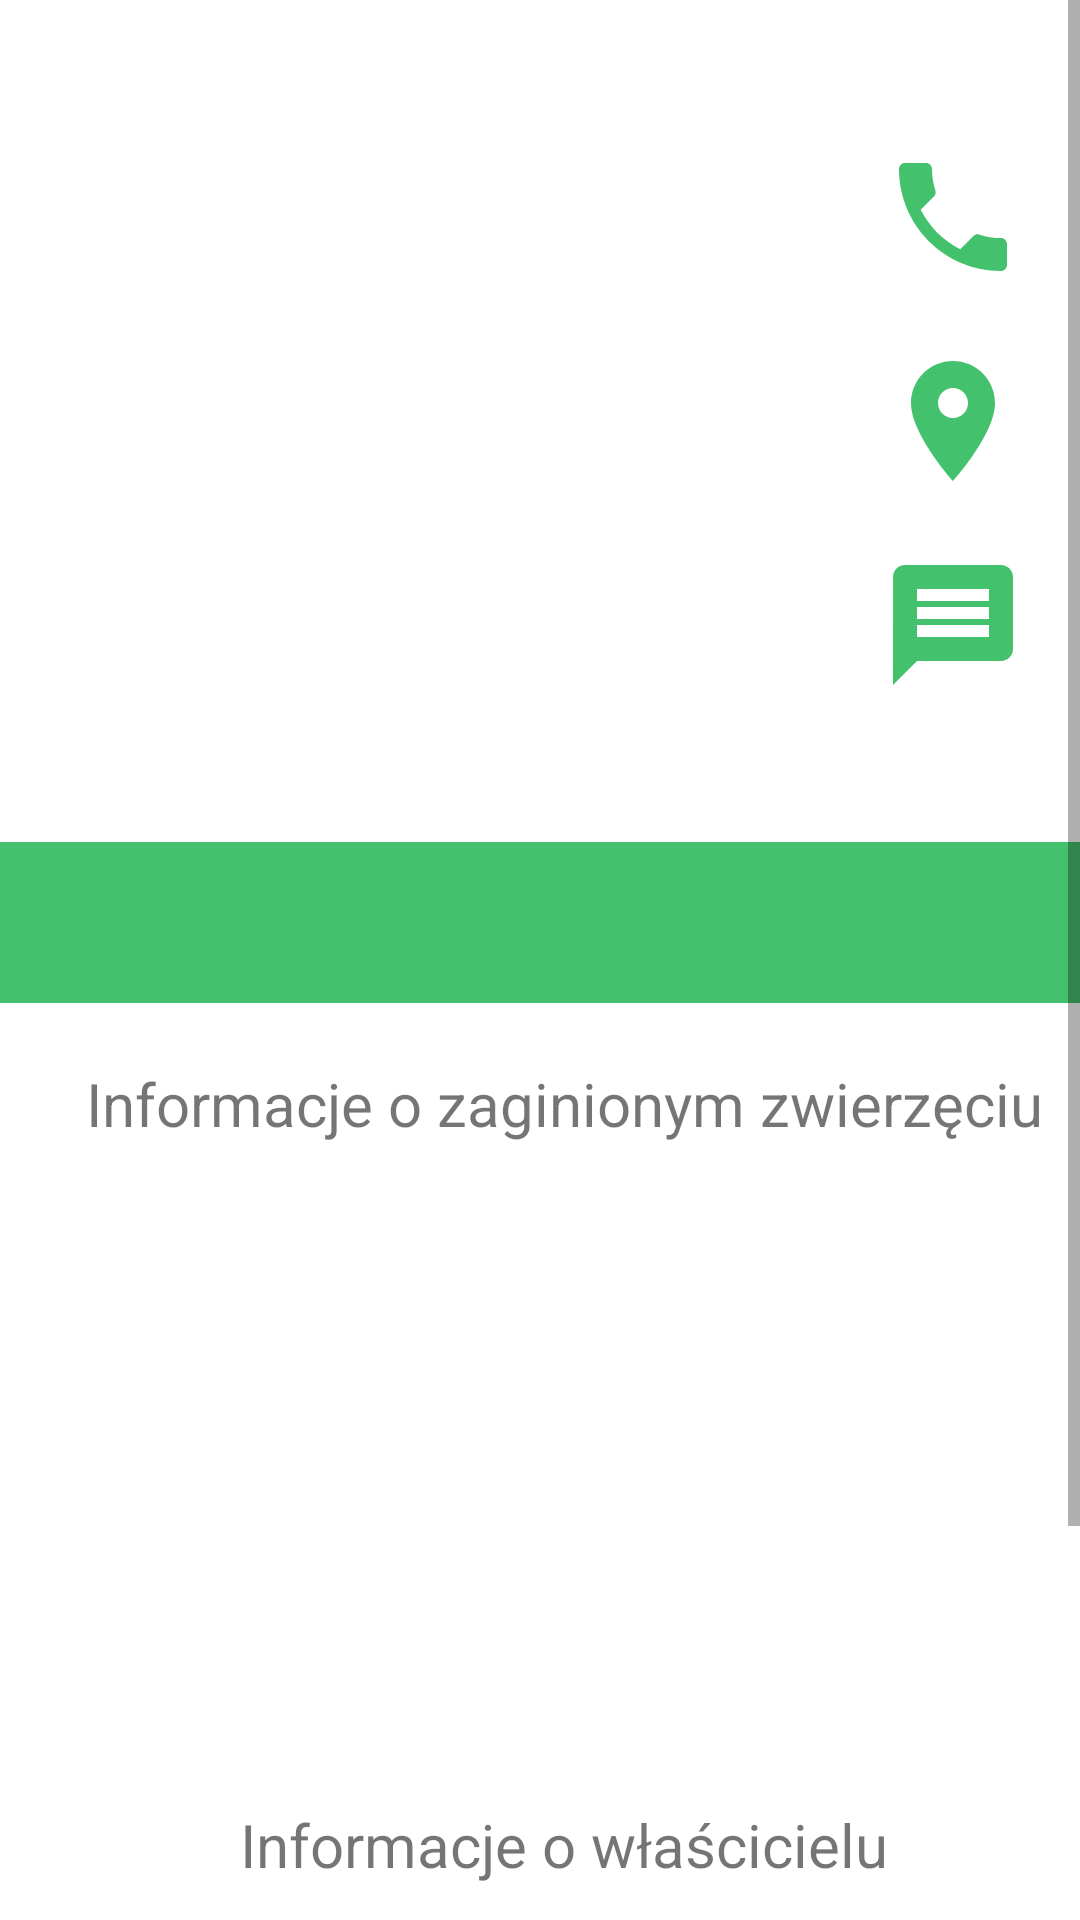

Icons on this 1080 x 1920 Android screen, each with the point to tap as point (x, y):
Chat icon: point (953, 625)
local phone: point (953, 217)
location on: point (953, 421)
